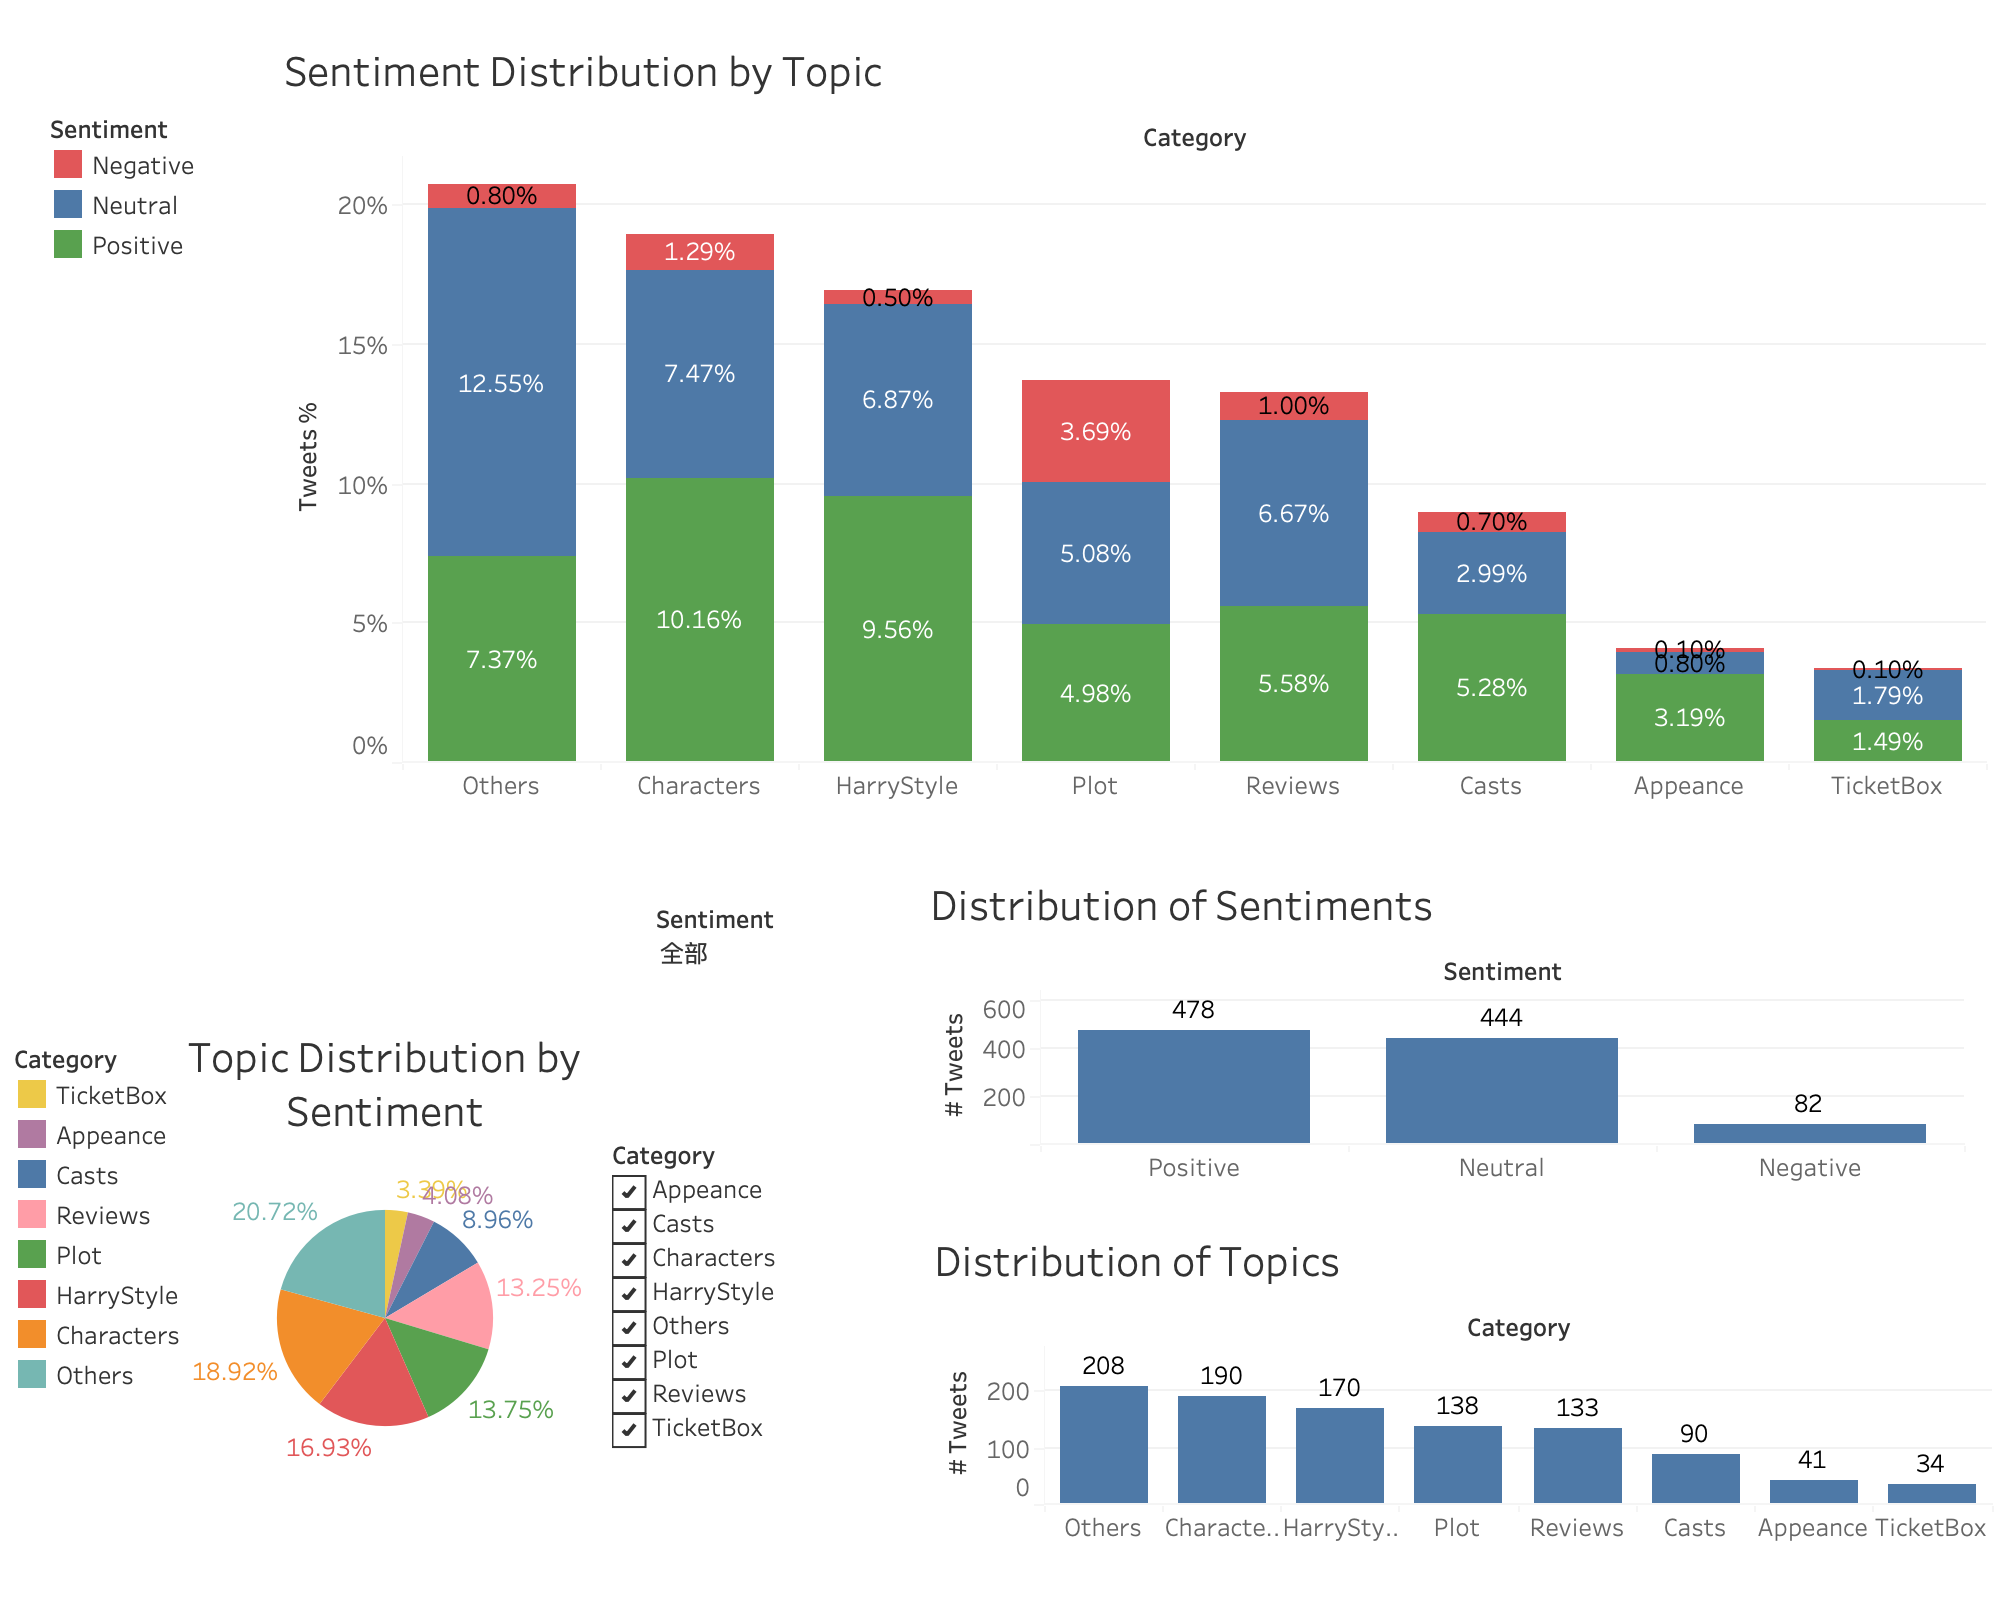

What the dashboard file says about the page in this screenshot:
{"tool":"tableau","page":{"name":"仪表板 1","canvas":[1000,800],"ordinal":0},"visuals":[{"type":"worksheet","title":"Sentiment in Each Topic","mark":"Automatic","cols":["category"],"box":[138,15,855,387]},{"type":"legend","title":"Sentiment in Each Topic","param":"[federated.02mbci102u06fj16k95bm01cqw8d].[none:sentiment:nk]","box":[24,54,84,93]},{"type":"worksheet","title":"Distribution of sentiments","mark":"Automatic","rows":["id"],"cols":["sentiment"],"box":[490,432,492,161]},{"type":"worksheet","title":"Negative Sentiments","mark":"Pie","box":[137,446,405,321]},{"type":"filter","title":"Negative Sentiments","param":"[federated.02mbci102u06fj16k95bm01cqw8d].[none:sentiment:nk]","box":[314,459,117,104]},{"type":"legend","title":"Negative Sentiments","param":"[federated.02mbci102u06fj16k95bm01cqw8d].[none:category:nk]","box":[21,520,140,138]},{"type":"filter","title":"Negative Sentiments","param":"[federated.02mbci102u06fj16k95bm01cqw8d].[none:category:nk]","box":[310,569,160,184]},{"type":"worksheet","title":"Distribution of Topics","mark":"Automatic","rows":["id"],"cols":["category"],"box":[503,606,480,178]}]}

Visuals, with their boxes in screenshot pixels (x1, y1, x2, y2), scaled from the page's 1000x800 canvas onto the 2000x1600 screenshot:
"Sentiment in Each Topic" worksheet: BBox(276, 30, 1986, 804)
"Sentiment in Each Topic" legend: BBox(48, 108, 216, 294)
"Distribution of sentiments" worksheet: BBox(980, 864, 1964, 1186)
"Negative Sentiments" worksheet (Pie marks): BBox(274, 892, 1084, 1534)
"Negative Sentiments" filter: BBox(628, 918, 862, 1126)
"Negative Sentiments" legend: BBox(42, 1040, 322, 1316)
"Negative Sentiments" filter: BBox(620, 1138, 940, 1506)
"Distribution of Topics" worksheet: BBox(1006, 1212, 1966, 1568)
